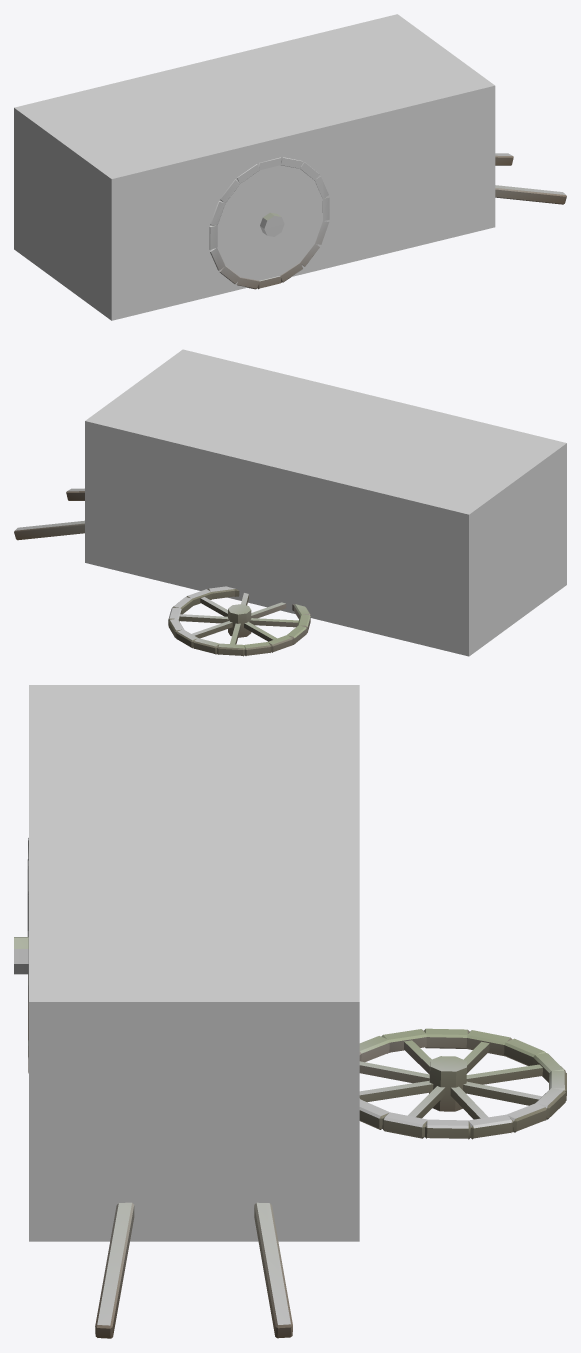
Rendered from prop_cart_broken.glb.
3 views of the same model, one above another, from view 1: azimuth 30°, elevation 25°; view 2: azimuth 150°, elevation 25°; view 3: azimuth 270°, elevation 25° (orthographic). The views are drawn at different scales.
Parts seen in each view (by area): view 1: col_cart, cart; view 2: col_cart, cart; view 3: col_cart, cart.
Boxes of the visible parts, x1,y1,x2,y2 form: col_cart: [14, 14, 495, 320]; cart: [209, 153, 566, 289]; col_cart: [85, 349, 566, 656]; cart: [14, 488, 310, 656]; col_cart: [29, 685, 359, 1241]; cart: [14, 838, 566, 1338].
Bounding box in the file's own units: 4.22 × 1.32 × 2.51.
